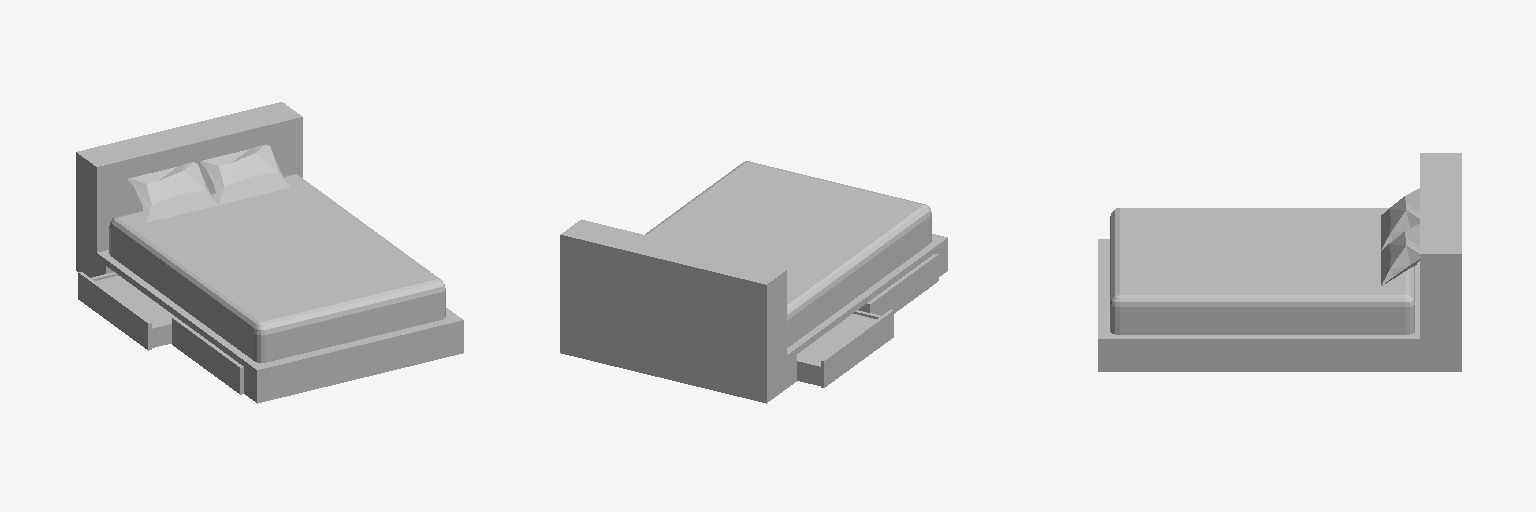
The model's file is DoubleBed_Brimnes.obj.
3 views of the same model, side by side, from view 1: azimuth 30°, elevation 25°; view 2: azimuth 150°, elevation 25°; view 3: azimuth 270°, elevation 25° (orthographic).
Parts seen in each view (by area): view 1: Mesh14 MattressInside1 Mattress1 Model, Mesh17 BedFrameHeadboard1 Model, Mesh19 Model, Mesh11 MattressBottom2 Mattress1 Model, Mesh8 MattressSide1 Mattress1 Model, Mesh18 BedFrameBase1 Model, Mesh15 Pillow1 Model, Mesh16 Pillow_copy_001 Model, Mesh10 MattressSide2 Mattress1 Model, Mesh7 MatressCorner2 Mattress1 Model; view 2: Mesh17 BedFrameHeadboard1 Model, Mesh14 MattressInside1 Mattress1 Model, Mesh19 Model, Mesh8 MattressSide1 Mattress1 Model, Mesh18 BedFrameBase1 Model, Mesh10 MattressSide2 Mattress1 Model, Mesh11 MattressBottom2 Mattress1 Model; view 3: Mesh14 MattressInside1 Mattress1 Model, Mesh10 MattressSide2 Mattress1 Model, Mesh19 Model, Mesh17 BedFrameHeadboard1 Model, Mesh18 BedFrameBase1 Model, Mesh16 Pillow_copy_001 Model, Mesh15 Pillow1 Model, Mesh11 MattressBottom2 Mattress1 Model, Mesh8 MattressSide1 Mattress1 Model, Mesh9 MatressCorner3 Mattress1 Model, Mesh5 MatressCorner1 Mattress1 Model.
Part boxes in pixels (left/top/right/bottom): Mesh14 MattressInside1 Mattress1 Model: left=129, top=179, right=426, bottom=317; Mesh17 BedFrameHeadboard1 Model: left=76, top=102, right=302, bottom=277; Mesh19 Model: left=78, top=257, right=463, bottom=403; Mesh11 MattressBottom2 Mattress1 Model: left=265, top=279, right=434, bottom=360; Mesh8 MattressSide1 Mattress1 Model: left=114, top=218, right=263, bottom=357; Mesh18 BedFrameBase1 Model: left=97, top=250, right=463, bottom=373; Mesh15 Pillow1 Model: left=128, top=162, right=217, bottom=222; Mesh16 Pillow_copy_001 Model: left=200, top=144, right=290, bottom=204; Mesh10 MattressSide2 Mattress1 Model: left=291, top=177, right=436, bottom=277; Mesh7 MatressCorner2 Mattress1 Model: left=251, top=318, right=272, bottom=362; Mesh17 BedFrameHeadboard1 Model: left=560, top=219, right=786, bottom=403; Mesh14 MattressInside1 Mattress1 Model: left=655, top=166, right=912, bottom=297; Mesh19 Model: left=787, top=242, right=947, bottom=387; Mesh8 MattressSide1 Mattress1 Model: left=787, top=206, right=926, bottom=344; Mesh18 BedFrameBase1 Model: left=787, top=234, right=947, bottom=358; Mesh10 MattressSide2 Mattress1 Model: left=645, top=164, right=749, bottom=236; Mesh11 MattressBottom2 Mattress1 Model: left=752, top=163, right=917, bottom=204; Mesh14 MattressInside1 Mattress1 Model: left=1126, top=212, right=1398, bottom=290; Mesh10 MattressSide2 Mattress1 Model: left=1126, top=291, right=1398, bottom=334; Mesh19 Model: left=1098, top=343, right=1423, bottom=371; Mesh17 BedFrameHeadboard1 Model: left=1420, top=153, right=1461, bottom=371; Mesh18 BedFrameBase1 Model: left=1098, top=239, right=1419, bottom=342; Mesh16 Pillow_copy_001 Model: left=1381, top=224, right=1419, bottom=285; Mesh15 Pillow1 Model: left=1381, top=188, right=1419, bottom=250; Mesh11 MattressBottom2 Mattress1 Model: left=1110, top=212, right=1125, bottom=298; Mesh8 MattressSide1 Mattress1 Model: left=1126, top=208, right=1388, bottom=211; Mesh9 MatressCorner3 Mattress1 Model: left=1399, top=291, right=1414, bottom=334; Mesh5 MatressCorner1 Mattress1 Model: left=1110, top=291, right=1125, bottom=334.
Bounding box in the file's own units: 1684 × 817 × 2265.